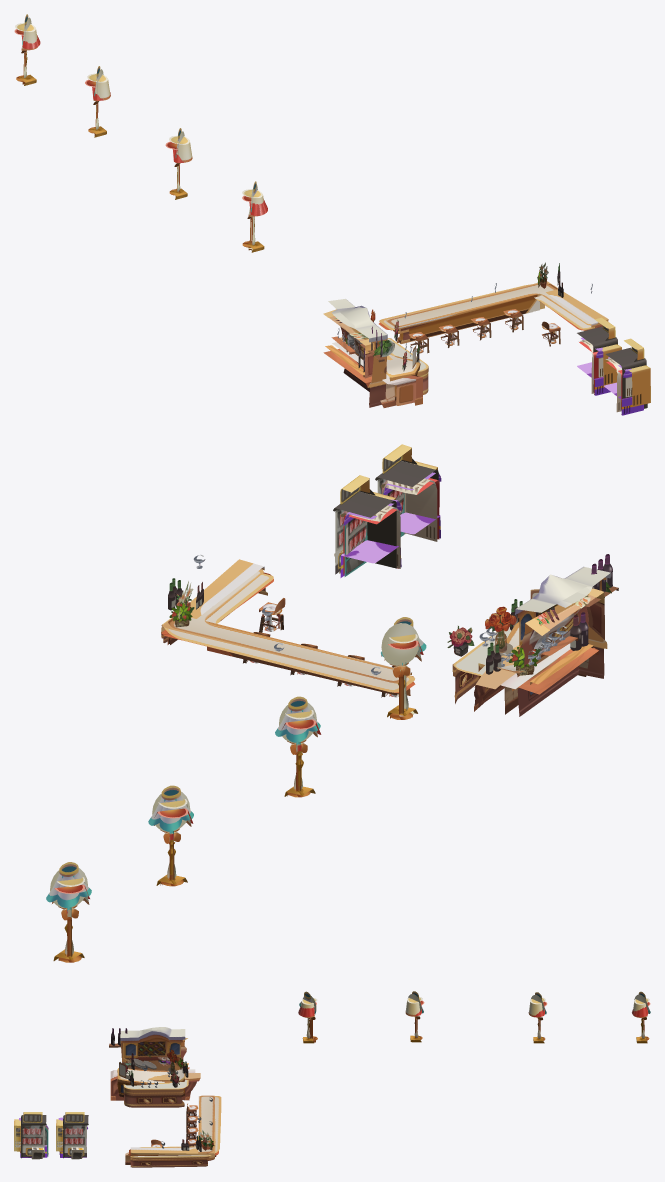
Rendered from huatan-batai-keleji.fbx.
3 views of the same model, one above another, from view 1: azimuth 30°, elevation 25°; view 2: azimuth 150°, elevation 25°; view 3: azimuth 270°, elevation 25° (orthographic). The views are drawn at different scales.
Parts seen in each view (by area): view 1: batai (×3), zhuozi (×3), stall_201241, stall_20124, batai1, stall_20123; view 2: batai (×3), zhuozi (×3), stall_20124, batai1, stall_201231, stall_20122, stall_201241, decoration_200731, zhuozi1, decoration_200744, decoration_200743, decoration_200742 (+2 smaller); view 3: batai (×3), zhuozi (×3), stall_20124, stall_201241, decoration_200722.
Part boxes in pixels (x1,y1,x2,y2): batai (×3): (323, 299, 428, 407); zhuozi (×3): (379, 262, 608, 343); stall_201241: (605, 338, 650, 408); stall_20124: (577, 317, 621, 385); batai1: (323, 336, 396, 407); stall_20123: (604, 357, 643, 415); batai (×3): (447, 554, 618, 716); zhuozi (×3): (161, 554, 414, 695); stall_20124: (333, 475, 396, 574); batai1: (502, 644, 599, 714); stall_201231: (334, 499, 401, 577); stall_20122: (382, 478, 437, 541); stall_201241: (375, 444, 438, 493); decoration_200731: (381, 623, 419, 719); zhuozi1: (161, 572, 415, 695); decoration_200744: (46, 862, 91, 960); decoration_200743: (148, 785, 193, 879); decoration_200742: (275, 696, 320, 790); batai (×3): (109, 1027, 200, 1107); zhuozi (×3): (130, 1095, 221, 1167); stall_20124: (56, 1112, 88, 1158); stall_201241: (14, 1112, 46, 1158); decoration_200722: (405, 996, 422, 1038).
Size of the model in its own units: 7.9 by 3.91 by 22.88.
